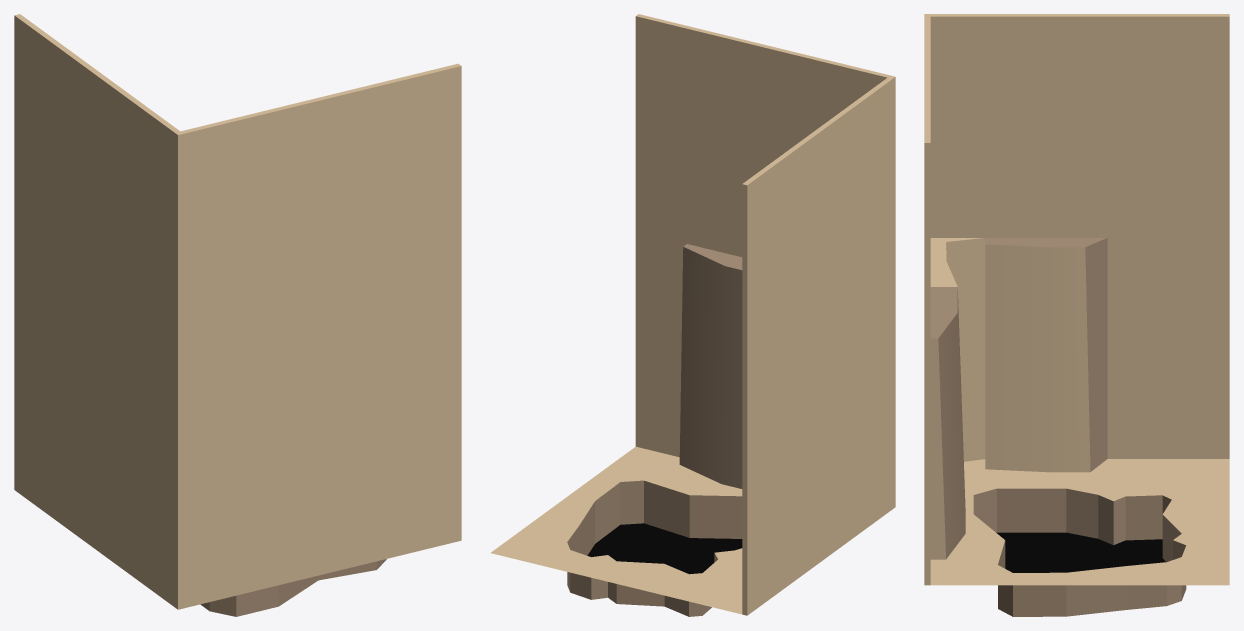
Rendered from CornerPit.fbx.
3 renders of one model, left to right at view 1: azimuth 30°, elevation 25°; view 2: azimuth 150°, elevation 25°; view 3: azimuth 270°, elevation 25°, orthographic. The views are drawn at different scales.
Parts seen in each view (by area): view 1: CornerPit; view 2: CornerPit; view 3: CornerPit.
Part boxes in pixels (bbox=[...]): CornerPit: bbox=[14, 14, 461, 616]; CornerPit: bbox=[491, 14, 895, 616]; CornerPit: bbox=[924, 14, 1229, 616].
Bounding box in the file's own units: 5 × 8.79 × 5.
